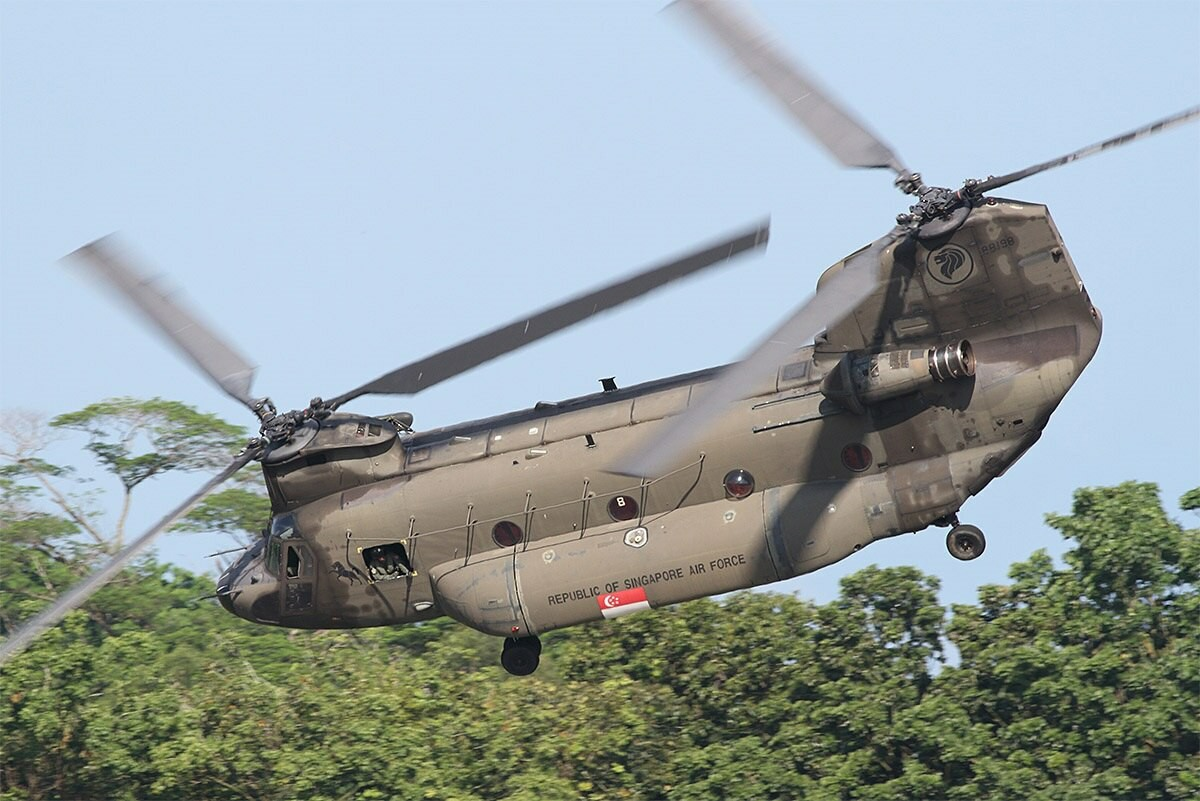chinook: (135, 156, 1131, 684)
